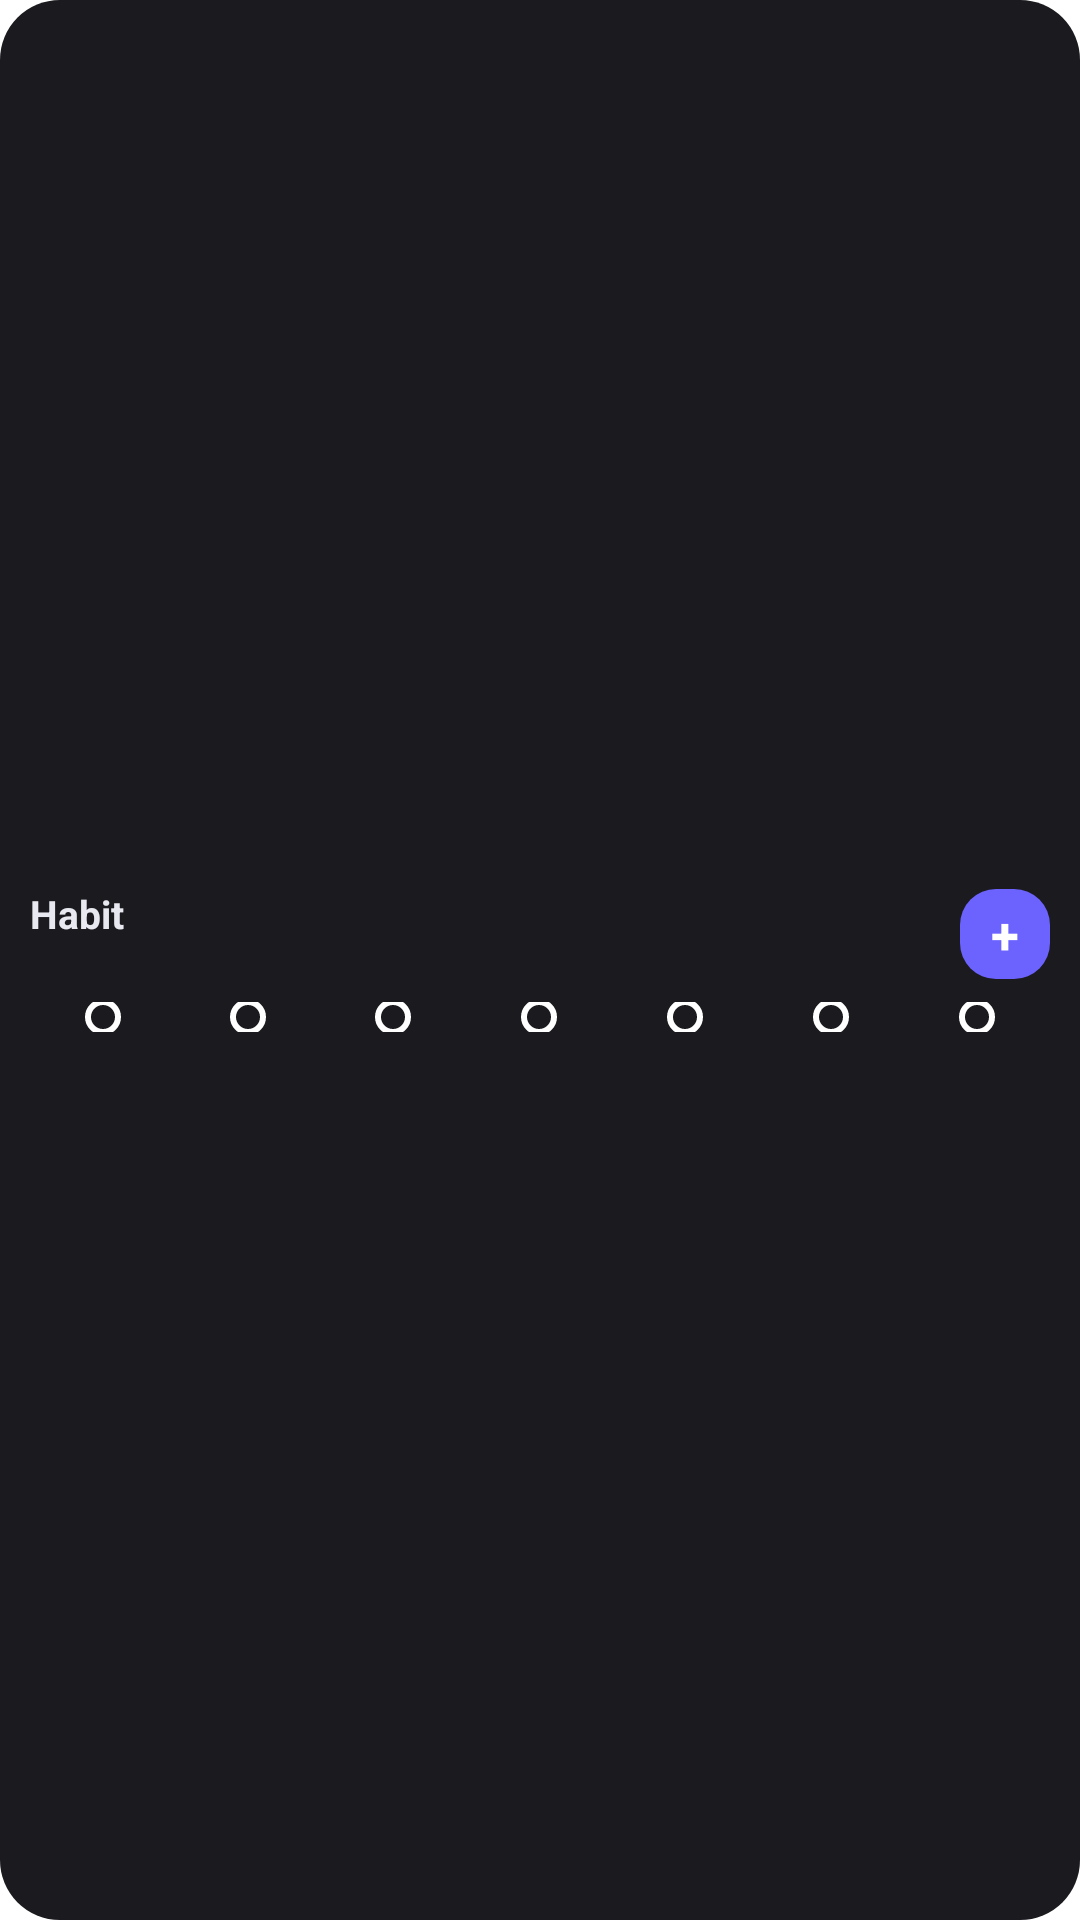

Screen size 1080 x 1920. Icon name, then its center in pixels as (x,y):
widget dot open: (103,1017), (248,1017), (393,1017), (539,1017), (685,1017), (831,1017), (977,1017)
